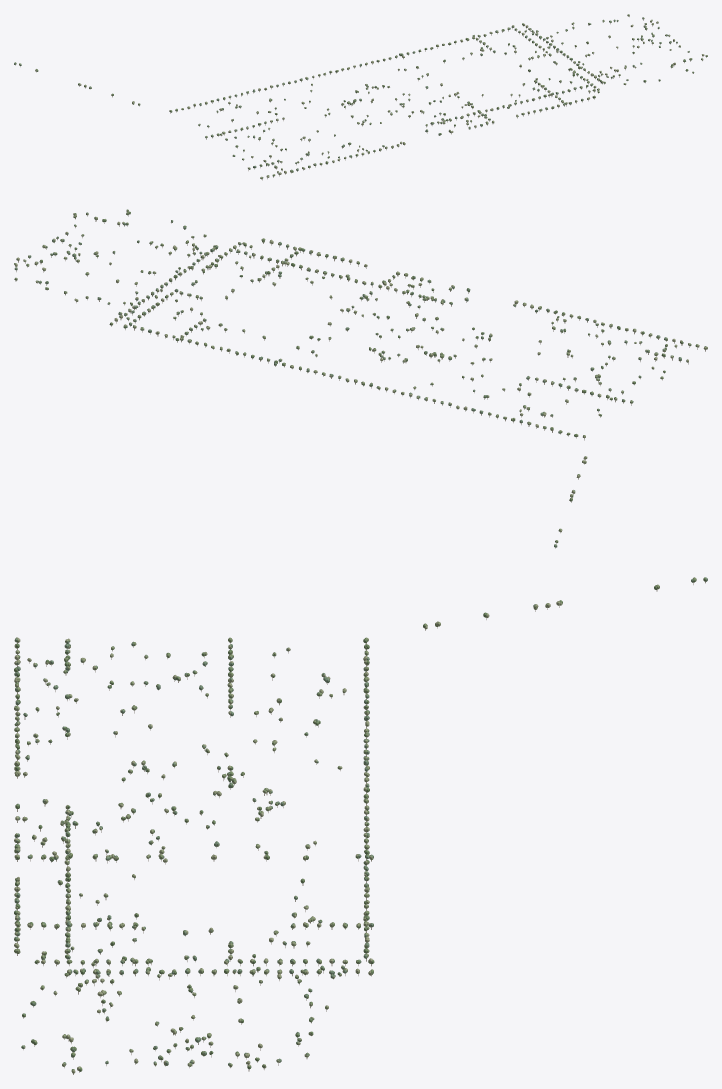
The model's file is 05-guanghua-v3.glb.
The picture shows the model from 3 angles, top to bottom: view 1: azimuth 30°, elevation 25°; view 2: azimuth 150°, elevation 25°; view 3: azimuth 270°, elevation 25°; orthographic projection. The views are drawn at different scales.
Parts seen in each view (by area): view 1: Canopy 2 details.001, Canopy 3 details.001, Canopy 4 details.001, Canopy 0 details.001, Canopy 1 details.001, Tree bark details.001; view 2: Canopy 4 details.001, Canopy 3 details.001, Canopy 2 details.001, Canopy 1 details.001, Canopy 0 details.001, Tree bark details.001; view 3: Canopy 2 details.001, Canopy 3 details.001, Canopy 4 details.001, Canopy 0 details.001, Canopy 1 details.001, Tree bark details.001.
Boxes of the visible parts, x1,y1,x2,y2 form: Canopy 2 details.001: [19, 17, 707, 179]; Canopy 3 details.001: [14, 14, 702, 178]; Canopy 4 details.001: [35, 15, 707, 177]; Canopy 0 details.001: [15, 15, 707, 176]; Canopy 1 details.001: [19, 14, 701, 172]; Tree bark details.001: [15, 20, 706, 180]; Canopy 4 details.001: [15, 210, 705, 532]; Canopy 3 details.001: [14, 209, 705, 547]; Canopy 2 details.001: [14, 212, 707, 530]; Canopy 1 details.001: [14, 210, 687, 542]; Canopy 0 details.001: [16, 211, 697, 545]; Tree bark details.001: [15, 215, 705, 548]; Canopy 2 details.001: [14, 582, 694, 1073]; Canopy 3 details.001: [14, 577, 707, 1069]; Canopy 4 details.001: [14, 601, 561, 1072]; Canopy 0 details.001: [14, 577, 706, 1071]; Canopy 1 details.001: [14, 577, 696, 1067]; Tree bark details.001: [17, 582, 705, 1074].
Size of the model in its own units: 998 by 8.07 by 593.
